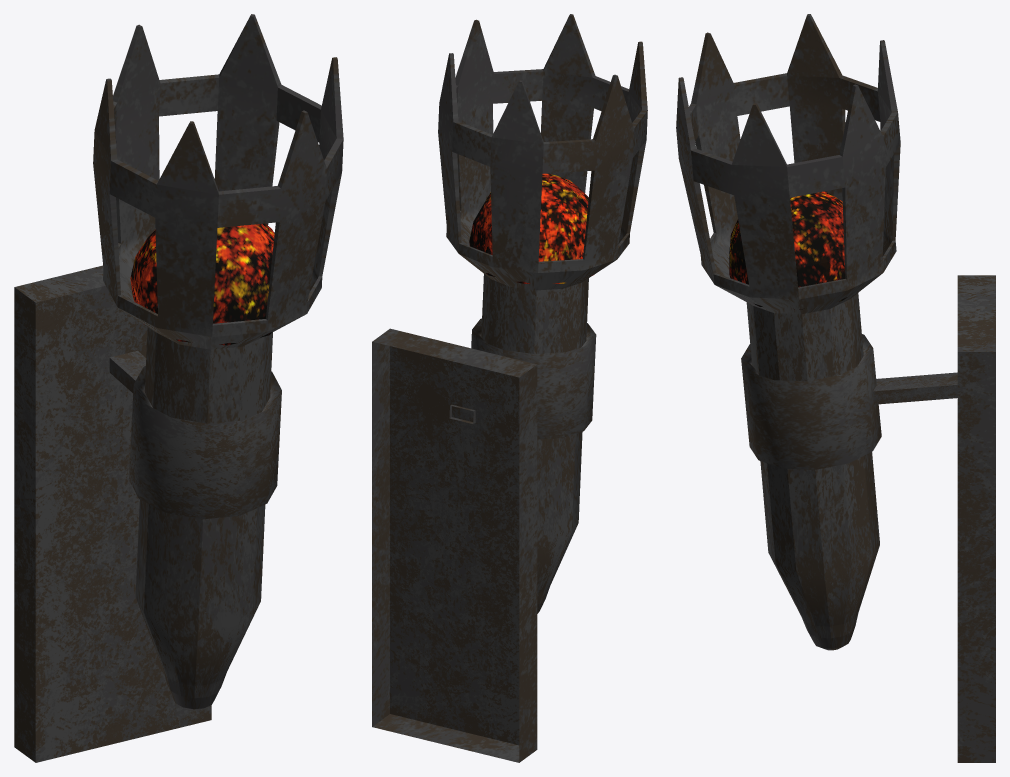
Rendered from Object_Torch_Mounted.fbx.
The picture shows the model from 3 angles, left to right: view 1: azimuth 30°, elevation 25°; view 2: azimuth 150°, elevation 25°; view 3: azimuth 270°, elevation 25°; orthographic projection. The views are drawn at different scales.
Visible parts, largest first — view 1: pSphere3; view 2: pSphere3; view 3: pSphere3.
Boxes of the visible parts, x1=… form: pSphere3: x1=14, y1=14, x2=343, y2=762; pSphere3: x1=372, y1=14, x2=647, y2=762; pSphere3: x1=676, y1=14, x2=995, y2=762.
Size of the model in its own units: 0.4523 by 1.51 by 0.6497.
